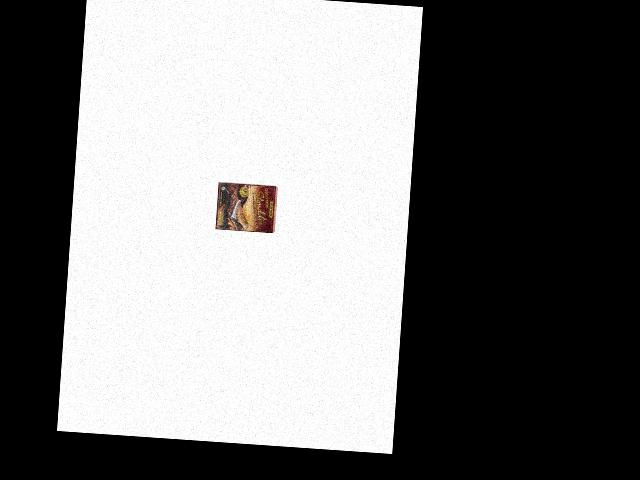chocolate: (215, 182, 278, 233)
